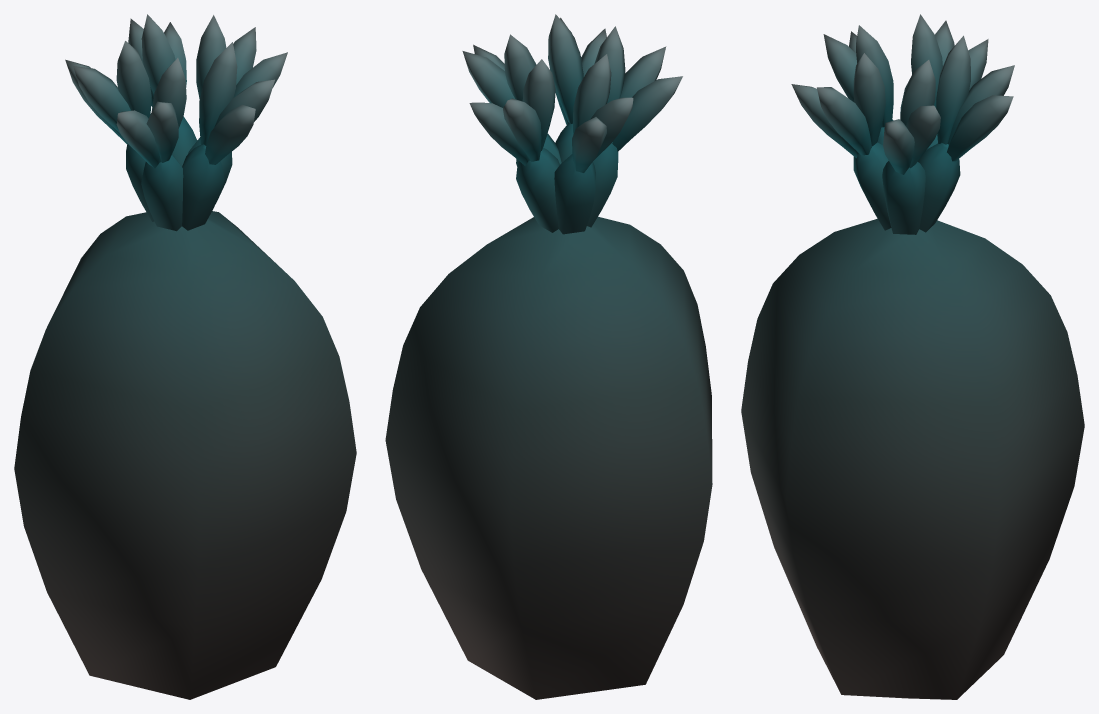
The model's file is plants-leafy-plants-leafy-bulb_v6.glb.
3 renders of one model, left to right at view 1: azimuth 30°, elevation 25°; view 2: azimuth 150°, elevation 25°; view 3: azimuth 270°, elevation 25°, orthographic.
Parts seen in each view (by area): view 1: Leafy Bulb_v6; view 2: Leafy Bulb_v6; view 3: Leafy Bulb_v6.
Boxes of the visible parts, <box> form: Leafy Bulb_v6: <box>14,14,356,699</box>; Leafy Bulb_v6: <box>385,14,712,699</box>; Leafy Bulb_v6: <box>741,14,1084,699</box>.
Bounding box in the file's own units: 0.1851 × 0.4 × 0.1884.
